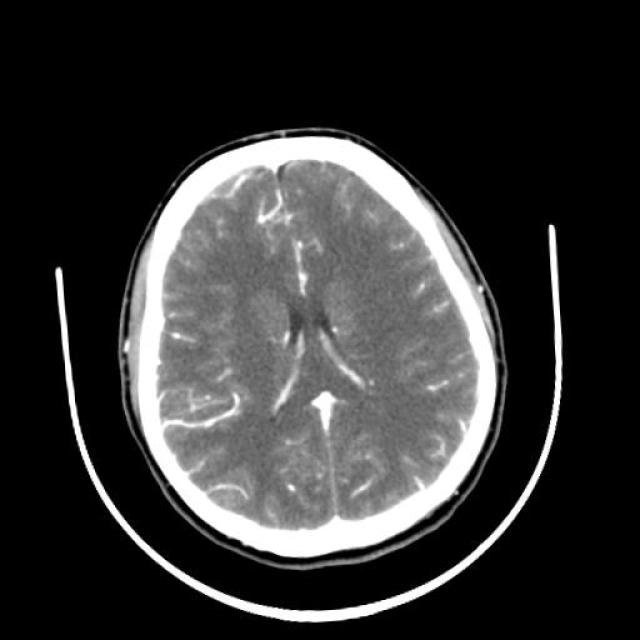Subarachnoid: (328, 176, 474, 402), (191, 412, 469, 520), (118, 250, 242, 470)
Subdural: (180, 147, 270, 214)
